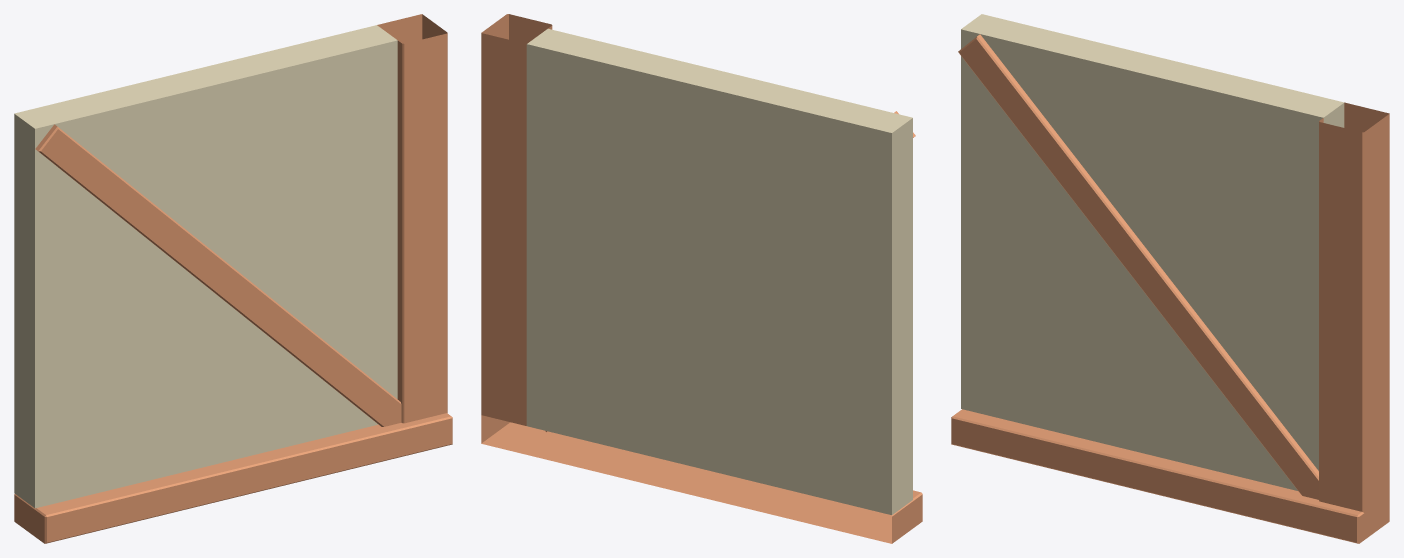
File: Wall1_low.fbx
The picture shows the model from 3 angles, left to right: view 1: azimuth 30°, elevation 25°; view 2: azimuth 150°, elevation 25°; view 3: azimuth 330°, elevation 25°; orthographic projection.
Visible parts, largest first — view 1: Wall1_low, Wall1_woodplank1_low, Wall1_woodframe1_low; view 2: Wall1_low, Wall1_woodplank1_low; view 3: Wall1_low, Wall1_woodplank1_low, Wall1_woodframe1_low.
Boxes of the visible parts, x1,y1,x2,y2 form: Wall1_low: (14, 25, 397, 508); Wall1_woodplank1_low: (14, 14, 452, 543); Wall1_woodframe1_low: (35, 124, 401, 426); Wall1_low: (526, 28, 912, 515); Wall1_woodplank1_low: (481, 14, 922, 543); Wall1_low: (961, 14, 1344, 490); Wall1_woodplank1_low: (951, 102, 1389, 543); Wall1_woodframe1_low: (958, 34, 1318, 499).
Bounding box in the file's own units: 450 × 430 × 60.
